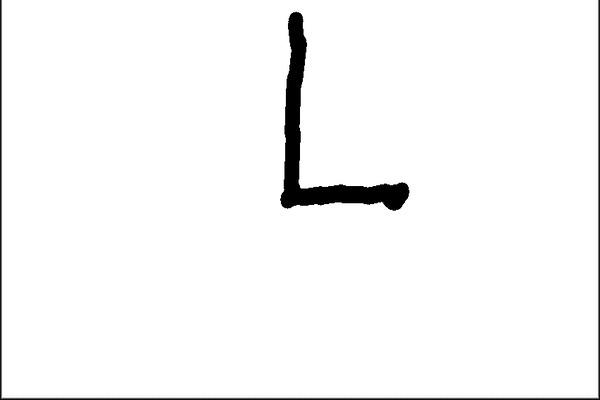L: (267, 5, 415, 216)
